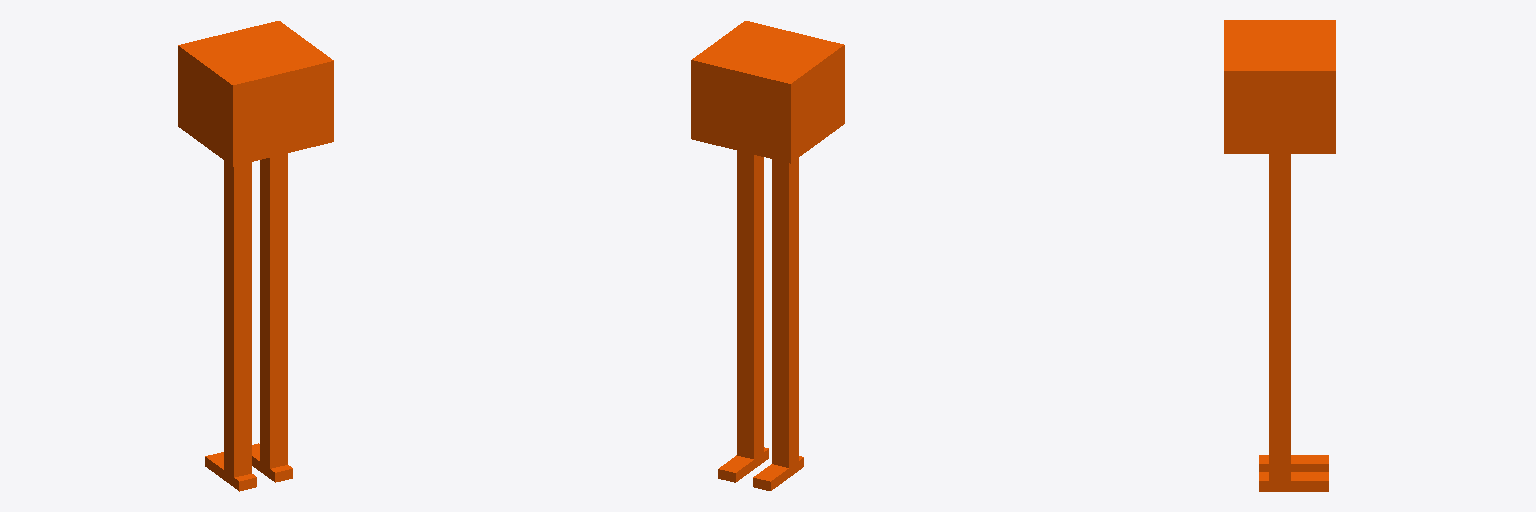
The robot description file, URDF, robot "dacbot":
<?xml version="1.0" ?>
<!-- =================================================================================== -->
<!-- |    This document was autogenerated by xacro from dacbot.xacro                   | -->
<!-- |    EDITING THIS FILE BY HAND IS NOT RECOMMENDED                                 | -->
<!-- =================================================================================== -->
<robot name="dacbot" xmlns:xacro="http://www.ros.org/wiki/xacro">
  <!-- <0.001 doesn't work -->
  <!-- ros_control plugin -->
  <gazebo>
    <plugin filename="libgazebo_ros_control.so" name="gazebo_ros_control">
      <robotNamespace>/dacbot</robotNamespace>
      <robotSimType>gazebo_ros_control/DefaultRobotHWSim</robotSimType>
    </plugin>
  </gazebo>
  <!-- Links -->
  <gazebo>
    <static> false </static>
    <pose> 0 0 0.275 0 0 0 </pose>
  </gazebo>
  <gazebo reference="body">
    <material>Gazebo/Orange</material>
  </gazebo>
  <gazebo reference="left_upper_leg">
    <mu1>0.2</mu1>
    <mu2>0.2</mu2>
    <material>Gazebo/Orange</material>
  </gazebo>
  <gazebo reference="left_lower_leg">
    <mu1>0.2</mu1>
    <mu2>0.2</mu2>
    <material>Gazebo/Orange</material>
  </gazebo>
  <gazebo reference="left_foot">
    <mu1>0.2</mu1>
    <mu2>0.2</mu2>
    <material>Gazebo/Orange</material>
  </gazebo>
  <gazebo reference="right_upper_leg">
    <mu1>0.2</mu1>
    <mu2>0.2</mu2>
    <material>Gazebo/Orange</material>
  </gazebo>
  <gazebo reference="right_lower_leg">
    <mu1>0.2</mu1>
    <mu2>0.2</mu2>
    <material>Gazebo/Orange</material>
  </gazebo>
  <gazebo reference="right_foot">
    <mu1>0.2</mu1>
    <mu2>0.2</mu2>
    <material>Gazebo/Orange</material>
  </gazebo>
  <material name="black">
    <color rgba="0.0 0.0 0.0 1.0"/>
  </material>
  <material name="blue">
    <color rgba="0.0 0.0 0.8 1.0"/>
  </material>
  <material name="green">
    <color rgba="0.0 0.8 0.0 1.0"/>
  </material>
  <material name="grey">
    <color rgba="0.2 0.2 0.2 1.0"/>
  </material>
  <material name="orange">
    <color rgba="1.0 0.423529411765 0.0392156862745 1.0"/>
  </material>
  <material name="brown">
    <color rgba="0.870588235294 0.811764705882 0.764705882353 1.0"/>
  </material>
  <material name="red">
    <color rgba="0.8 0.0 0.0 1.0"/>
  </material>
  <material name="white">
    <color rgba="1.0 1.0 1.0 1.0"/>
  </material>
  <!-- 
		Macros
	 -->
  <!-- 
		World
	-->
  <!-- <link name="dacbot_global"/> -->
  <!-- 
		Left Leg
	-->
  <!-- Creates the link -->
  <link name="left_foot">
    <collision>
      <origin rpy="0 -1.57079632679 0" xyz="0.004 0.01 0"/>
      <geometry>
        <box size="0.015 0.05 0.008"/>
      </geometry>
    </collision>
    <visual>
      <origin rpy="0 -1.57079632679 0" xyz="0.004 0.01 0"/>
      <geometry>
        <box size="0.015 0.05 0.008"/>
      </geometry>
      <material name="orange"/>
    </visual>
    <inertial>
      <origin rpy="0 -1.57079632679 0" xyz="0.004 0.01 0"/>
      <mass value="0.01"/>
      <inertia ixx="0.002" ixy="0.0" ixz="0.0" iyy="0.002" iyz="0.0" izz="0.002"/>
    </inertial>
  </link>
  <!-- Creates the link -->
  <link name="left_lower_leg">
    <collision>
      <origin rpy="0 -1.57079632679 0" xyz="0.0625 0 0"/>
      <geometry>
        <box size="0.015 0.015 0.125"/>
      </geometry>
    </collision>
    <visual>
      <origin rpy="0 -1.57079632679 0" xyz="0.0625 0 0"/>
      <geometry>
        <box size="0.015 0.015 0.125"/>
      </geometry>
      <material name="orange"/>
    </visual>
    <inertial>
      <origin rpy="0 -1.57079632679 0" xyz="0.0625 0 0"/>
      <mass value="0.08"/>
      <inertia ixx="0.002" ixy="0.0" ixz="0.0" iyy="0.002" iyz="0.0" izz="0.002"/>
    </inertial>
  </link>
  <!-- Creates the link -->
  <link name="left_upper_leg">
    <collision>
      <origin rpy="0 -1.57079632679 0" xyz="0.071 0 0"/>
      <geometry>
        <box size="0.015 0.015 0.142"/>
      </geometry>
    </collision>
    <visual>
      <origin rpy="0 -1.57079632679 0" xyz="0.071 0 0"/>
      <geometry>
        <box size="0.015 0.015 0.142"/>
      </geometry>
      <material name="orange"/>
    </visual>
    <inertial>
      <origin rpy="0 -1.57079632679 0" xyz="0.071 0 0"/>
      <mass value="0.2"/>
      <inertia ixx="0.002" ixy="0.0" ixz="0.0" iyy="0.002" iyz="0.0" izz="0.002"/>
    </inertial>
  </link>
  <!-- Creates the link -->
  <link name="right_foot">
    <collision>
      <origin rpy="0 -1.57079632679 0" xyz="0.004 0.01 0"/>
      <geometry>
        <box size="0.015 0.05 0.008"/>
      </geometry>
    </collision>
    <visual>
      <origin rpy="0 -1.57079632679 0" xyz="0.004 0.01 0"/>
      <geometry>
        <box size="0.015 0.05 0.008"/>
      </geometry>
      <material name="orange"/>
    </visual>
    <inertial>
      <origin rpy="0 -1.57079632679 0" xyz="0.004 0.01 0"/>
      <mass value="0.01"/>
      <inertia ixx="0.002" ixy="0.0" ixz="0.0" iyy="0.002" iyz="0.0" izz="0.002"/>
    </inertial>
  </link>
  <!-- Creates the link -->
  <link name="right_lower_leg">
    <collision>
      <origin rpy="0 -1.57079632679 0" xyz="0.0625 0 0"/>
      <geometry>
        <box size="0.015 0.015 0.125"/>
      </geometry>
    </collision>
    <visual>
      <origin rpy="0 -1.57079632679 0" xyz="0.0625 0 0"/>
      <geometry>
        <box size="0.015 0.015 0.125"/>
      </geometry>
      <material name="orange"/>
    </visual>
    <inertial>
      <origin rpy="0 -1.57079632679 0" xyz="0.0625 0 0"/>
      <mass value="0.08"/>
      <inertia ixx="0.002" ixy="0.0" ixz="0.0" iyy="0.002" iyz="0.0" izz="0.002"/>
    </inertial>
  </link>
  <!-- Creates the link -->
  <link name="right_upper_leg">
    <collision>
      <origin rpy="0 -1.57079632679 0" xyz="0.071 0 0"/>
      <geometry>
        <box size="0.015 0.015 0.142"/>
      </geometry>
    </collision>
    <visual>
      <origin rpy="0 -1.57079632679 0" xyz="0.071 0 0"/>
      <geometry>
        <box size="0.015 0.015 0.142"/>
      </geometry>
      <material name="orange"/>
    </visual>
    <inertial>
      <origin rpy="0 -1.57079632679 0" xyz="0.071 0 0"/>
      <mass value="0.2"/>
      <inertia ixx="0.002" ixy="0.0" ixz="0.0" iyy="0.002" iyz="0.0" izz="0.002"/>
    </inertial>
  </link>
  <!-- Creates the link -->
  <link name="body">
    <collision>
      <origin rpy="0 0 0" xyz="0 0 0.0325"/>
      <geometry>
        <box size="0.085 0.08 0.065"/>
      </geometry>
    </collision>
    <visual>
      <origin rpy="0 0 0" xyz="0 0 0.0325"/>
      <geometry>
        <box size="0.085 0.08 0.065"/>
      </geometry>
      <material name="orange"/>
    </visual>
    <inertial>
      <origin rpy="0 0 0" xyz="0 0 0.0325"/>
      <mass value="0.45"/>
      <inertia ixx="0.002" ixy="0.0" ixz="0.0" iyy="0.002" iyz="0.0" izz="0.002"/>
    </inertial>
  </link>
  <!-- 
		Joints 
	-->
  <link name="world"/>
  <joint name="fixed" type="fixed">
    <parent link="world"/>
    <child link="body"/>
    <origin rpy="0 0 0" xyz="0 0 0.3025"/>
  </joint>
  <joint name="left_hip" type="continuous">
    <parent link="body"/>
    <child link="left_upper_leg"/>
    <origin rpy="0 1.57079632679 0" xyz="-0.015 0 0"/>
    <axis xyz="0 0 1"/>
    <dynamics damping="0.7"/>
  </joint>
  <joint name="left_knee" type="continuous">
    <parent link="left_upper_leg"/>
    <child link="left_lower_leg"/>
    <origin rpy="0 0 0" xyz="0.142 0 0"/>
    <axis xyz="0 0 1"/>
    <dynamics damping="0.7"/>
  </joint>
  <joint name="left_ankle" type="continuous">
    <parent link="left_lower_leg"/>
    <child link="left_foot"/>
    <origin rpy="0 0 0" xyz="0.125 0 0"/>
    <axis xyz="0 0 1"/>
    <dynamics damping="0.7"/>
  </joint>
  <joint name="right_hip" type="continuous">
    <parent link="body"/>
    <child link="right_upper_leg"/>
    <origin rpy="0 1.57079632679 0" xyz="0.015 0 0"/>
    <axis xyz="0 0 1"/>
    <dynamics damping="0.7"/>
  </joint>
  <joint name="right_knee" type="continuous">
    <parent link="right_upper_leg"/>
    <child link="right_lower_leg"/>
    <origin rpy="0 0 0" xyz="0.142 0 0"/>
    <axis xyz="0 0 1"/>
    <dynamics damping="0.7"/>
  </joint>
  <joint name="right_ankle" type="continuous">
    <parent link="right_lower_leg"/>
    <child link="right_foot"/>
    <origin rpy="0 0 0" xyz="0.125 0 0"/>
    <axis xyz="0 0 1"/>
    <dynamics damping="0.7"/>
  </joint>
  <transmission name="left_hip_trans">
    <type>transmission_interface/SimpleTransmission</type>
    <joint name="left_hip">
      <hardwareInterface>EffortJointInterface</hardwareInterface>
    </joint>
    <actuator name="left_hip_motor">
      <hardwareInterface>EffortJointInterface</hardwareInterface>
      <mechanicalReduction>1</mechanicalReduction>
    </actuator>
  </transmission>
  <transmission name="left_knee_trans">
    <type>transmission_interface/SimpleTransmission</type>
    <joint name="left_knee">
      <hardwareInterface>EffortJointInterface</hardwareInterface>
    </joint>
    <actuator name="left_knee_motor">
      <hardwareInterface>EffortJointInterface</hardwareInterface>
      <mechanicalReduction>1</mechanicalReduction>
    </actuator>
  </transmission>
  <transmission name="left_ankle_trans">
    <type>transmission_interface/SimpleTransmission</type>
    <joint name="left_ankle">
      <hardwareInterface>EffortJointInterface</hardwareInterface>
    </joint>
    <actuator name="left_ankle_motor">
      <hardwareInterface>EffortJointInterface</hardwareInterface>
      <mechanicalReduction>1</mechanicalReduction>
    </actuator>
  </transmission>
  <transmission name="right_hip_trans">
    <type>transmission_interface/SimpleTransmission</type>
    <joint name="right_hip">
      <hardwareInterface>EffortJointInterface</hardwareInterface>
    </joint>
    <actuator name="right_hip_motor">
      <hardwareInterface>EffortJointInterface</hardwareInterface>
      <mechanicalReduction>1</mechanicalReduction>
    </actuator>
  </transmission>
  <transmission name="right_knee_trans">
    <type>transmission_interface/SimpleTransmission</type>
    <joint name="right_knee">
      <hardwareInterface>EffortJointInterface</hardwareInterface>
    </joint>
    <actuator name="right_knee_motor">
      <hardwareInterface>EffortJointInterface</hardwareInterface>
      <mechanicalReduction>1</mechanicalReduction>
    </actuator>
  </transmission>
  <transmission name="right_ankle_trans">
    <type>transmission_interface/SimpleTransmission</type>
    <joint name="right_ankle">
      <hardwareInterface>EffortJointInterface</hardwareInterface>
    </joint>
    <actuator name="right_ankle_motor">
      <hardwareInterface>EffortJointInterface</hardwareInterface>
      <mechanicalReduction>1</mechanicalReduction>
    </actuator>
  </transmission>
</robot>

--- Render facts (derived) ---
The picture shows the robot from 3 angles, left to right: view 1: azimuth 30°, elevation 25°; view 2: azimuth 150°, elevation 25°; view 3: azimuth 270°, elevation 25°; orthographic projection.
Model dacbot with 8 links and 7 joints (6 continuous, 1 fixed), rooted at world, posed every joint at zero.
Visible links, largest first — view 1: body, left_lower_leg, right_lower_leg, left_upper_leg, right_upper_leg, left_foot, right_foot; view 2: body, left_lower_leg, right_lower_leg, left_upper_leg, right_upper_leg, right_foot, left_foot; view 3: body, right_upper_leg, right_lower_leg, right_foot, left_foot.
Boxes of the visible links, x1,y1,x2,y2 form: body: [178, 21, 333, 166]; left_lower_leg: [224, 315, 251, 477]; right_lower_leg: [260, 306, 287, 468]; left_upper_leg: [224, 161, 251, 321]; right_upper_leg: [260, 153, 287, 312]; left_foot: [205, 452, 256, 491]; right_foot: [252, 443, 292, 482]; body: [691, 21, 844, 163]; left_lower_leg: [772, 309, 798, 467]; right_lower_leg: [737, 300, 763, 458]; left_upper_leg: [772, 158, 798, 314]; right_upper_leg: [737, 151, 763, 306]; right_foot: [718, 447, 768, 482]; left_foot: [753, 456, 803, 490]; body: [1224, 20, 1335, 153]; right_upper_leg: [1269, 154, 1290, 321]; right_lower_leg: [1269, 322, 1290, 480]; right_foot: [1259, 472, 1328, 491]; left_foot: [1259, 455, 1328, 471].
Bounding box of the posed robot: 0.085 × 0.08 × 0.34 m (x, y, z).
Geometry: primitives only (box / cylinder / sphere), no mesh files.